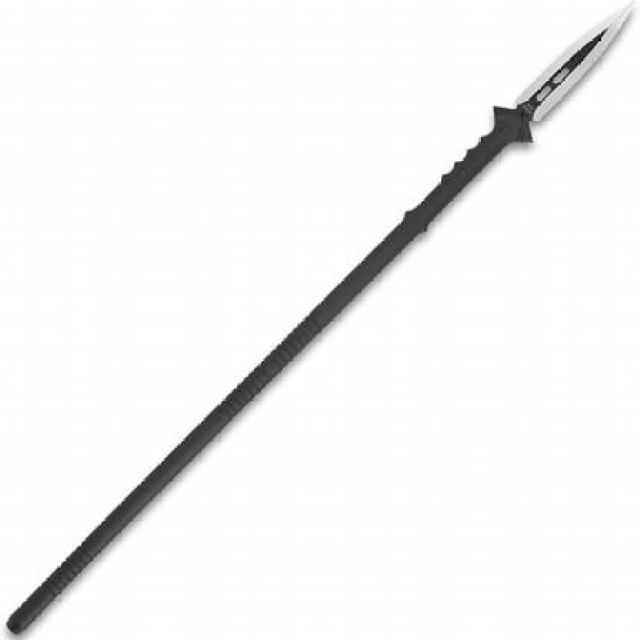weapon: (8, 0, 638, 634)
